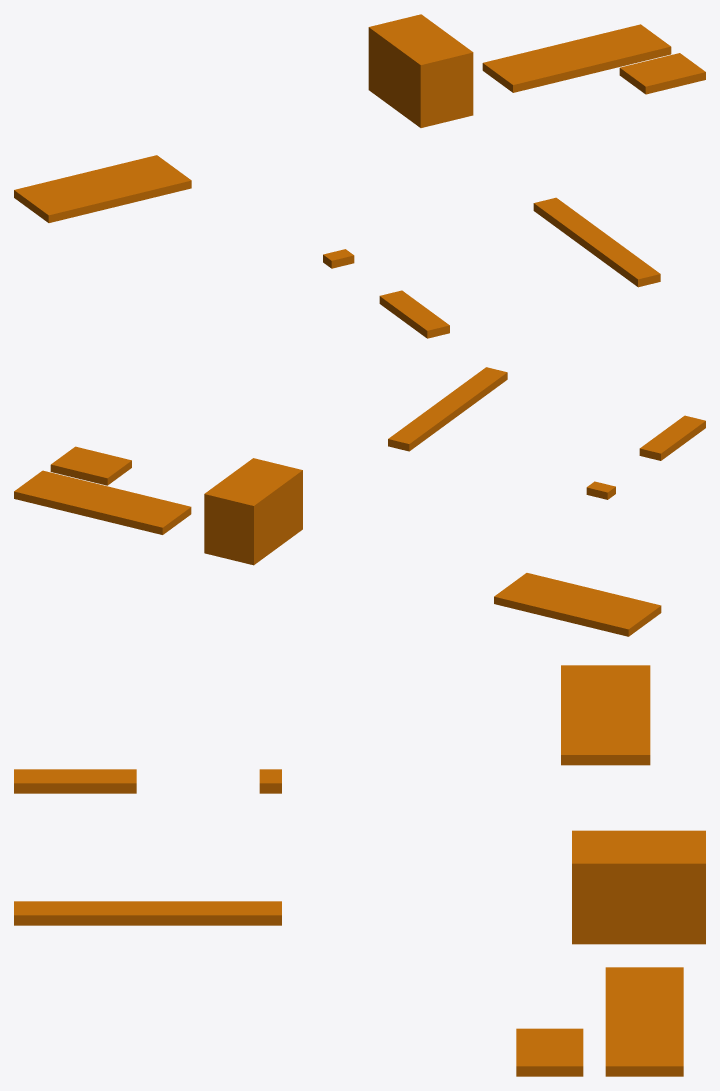
The model's file is 强橙光.obj.
The picture shows the model from 3 angles, top to bottom: view 1: azimuth 30°, elevation 25°; view 2: azimuth 150°, elevation 25°; view 3: azimuth 270°, elevation 25°; orthographic projection. The views are drawn at different scales.
Parts seen in each view (by area): view 1: 强橙光; view 2: 强橙光; view 3: 强橙光.
Boxes of the visible parts, x1,y1,x2,y2 form: 强橙光: (14,14,705,338); 强橙光: (14,367,705,636); 强橙光: (14,665,705,1076).
Size of the model in its own units: 85 by 8 by 62.
